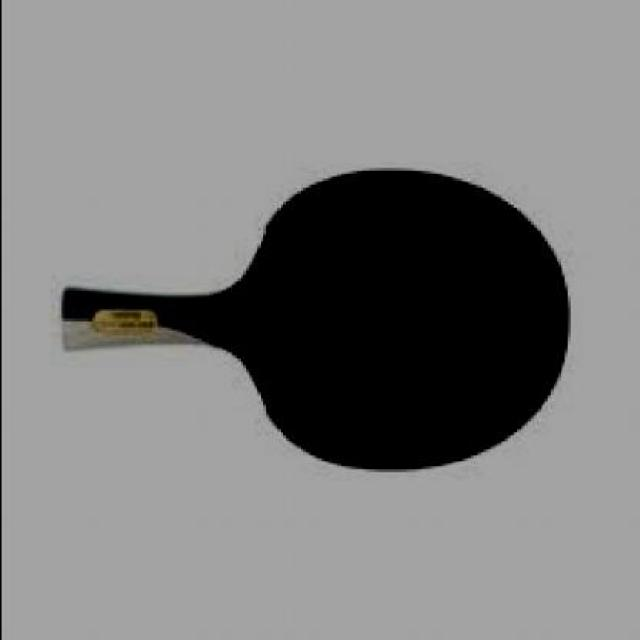table_tennis_racket: (60, 171, 572, 474)
